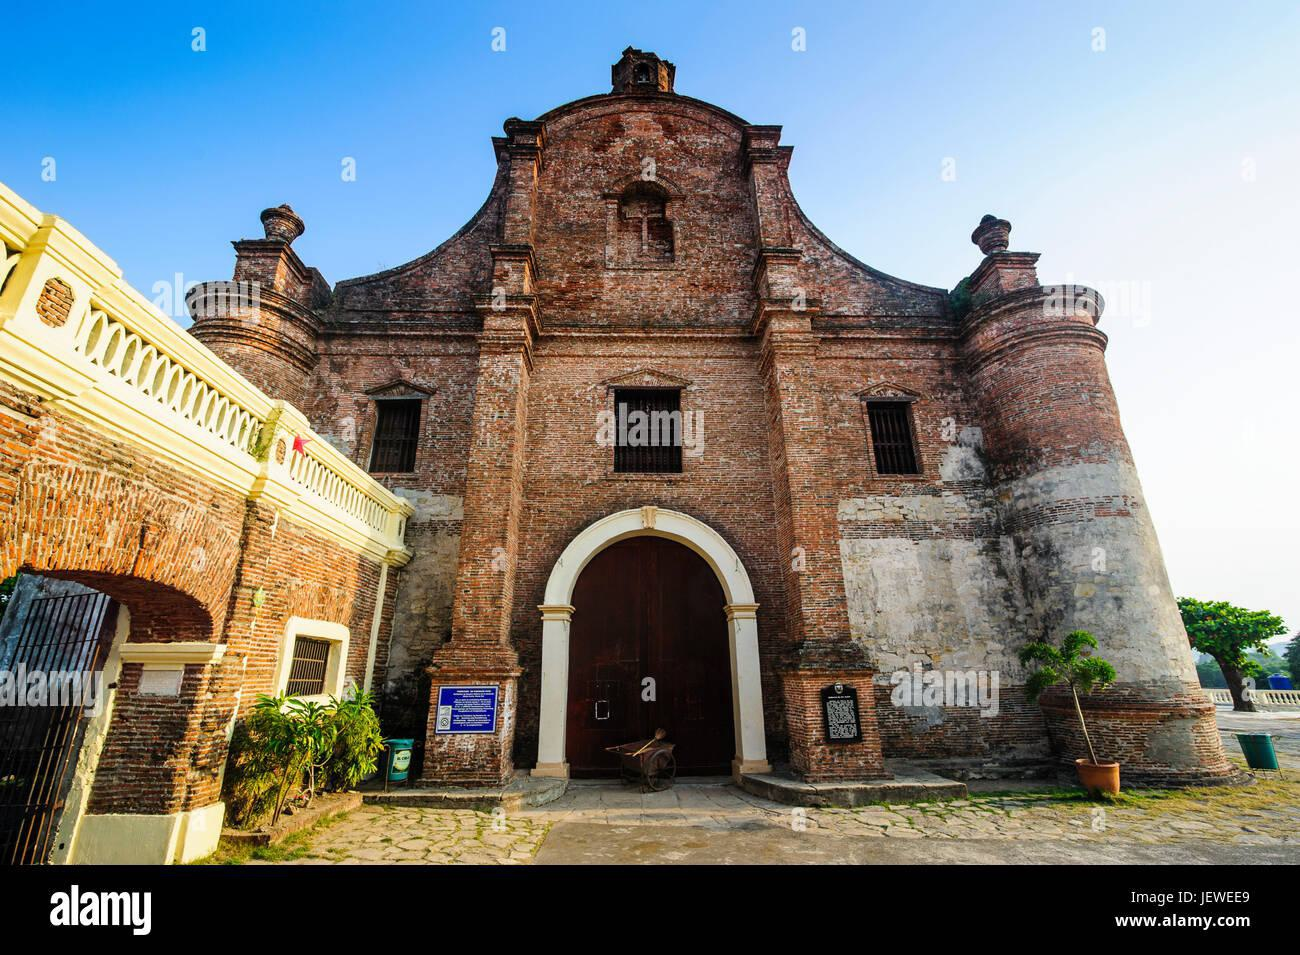santa_maria_church_santa_maria_ilocos_sur: (159, 42, 1231, 805)
unfinished_paint: (839, 466, 1198, 720)
